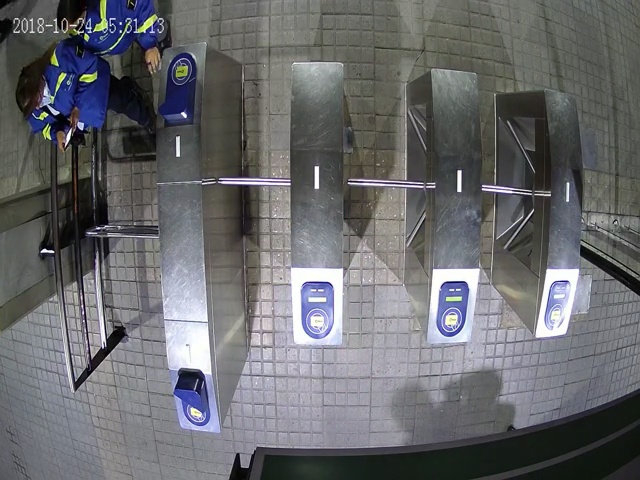Chaleco_azul: (15, 40, 157, 153), (57, 1, 171, 72)
